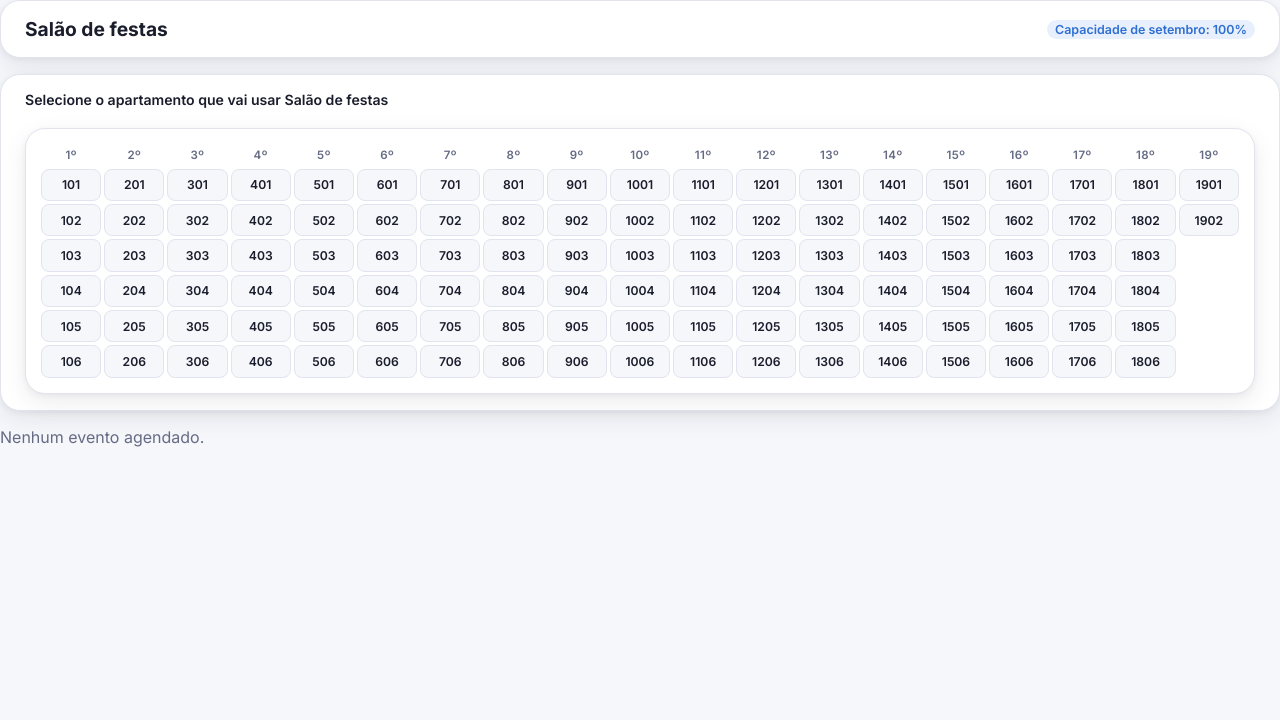
Scenario: SchedulingRoomPanel › shows an error toast when scheduling fails
Step 1. Click the button "101" → coordinates (71, 185), box left=41, top=169, right=101, bottom=201
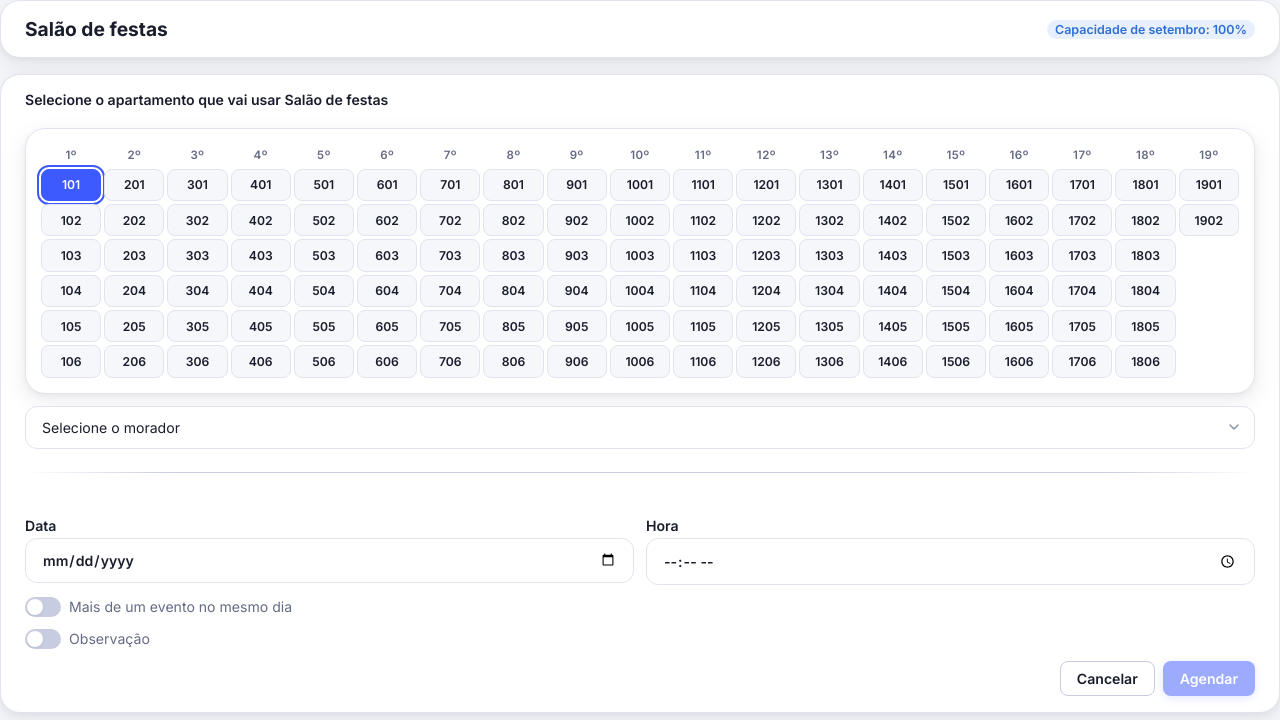
Step 2. Select "Resident Person" in the dropdown named "Morador" → coordinates (640, 427), box left=25, top=406, right=1255, bottom=449
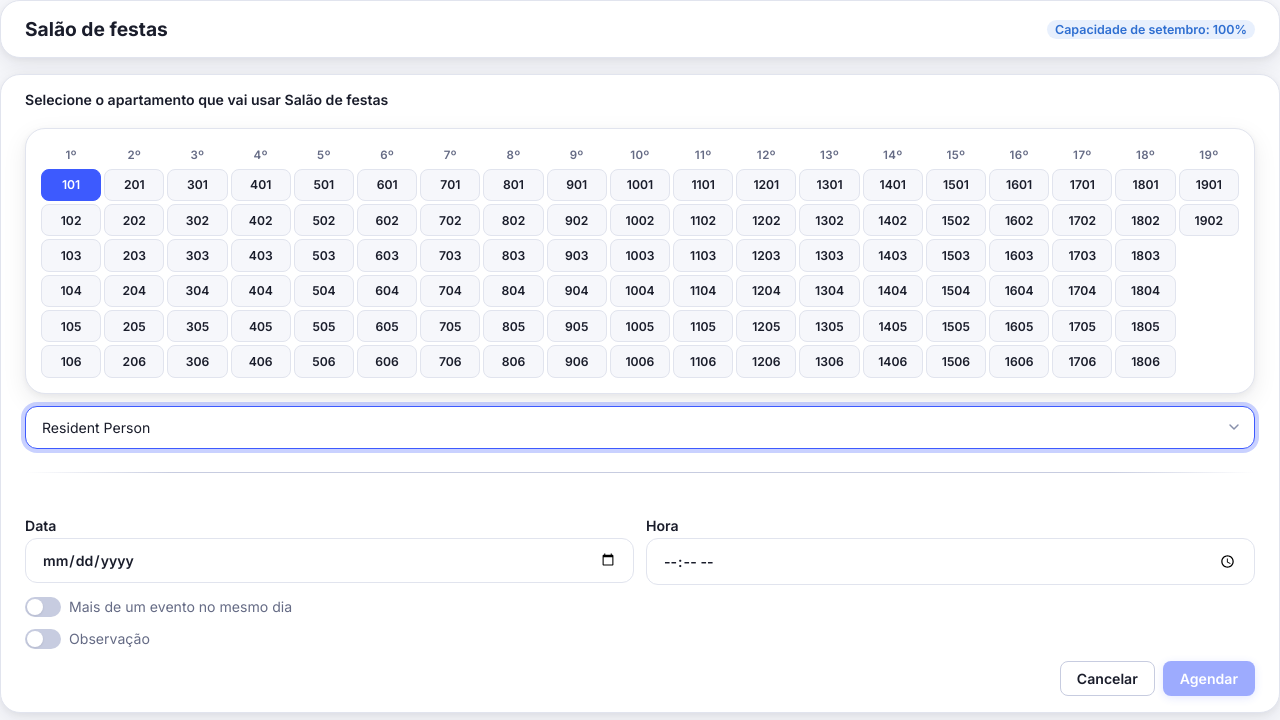
Step 3. Type "2099-06-15" into the date field named "Data do evento" → coordinates (330, 560), box left=25, top=538, right=634, bottom=583
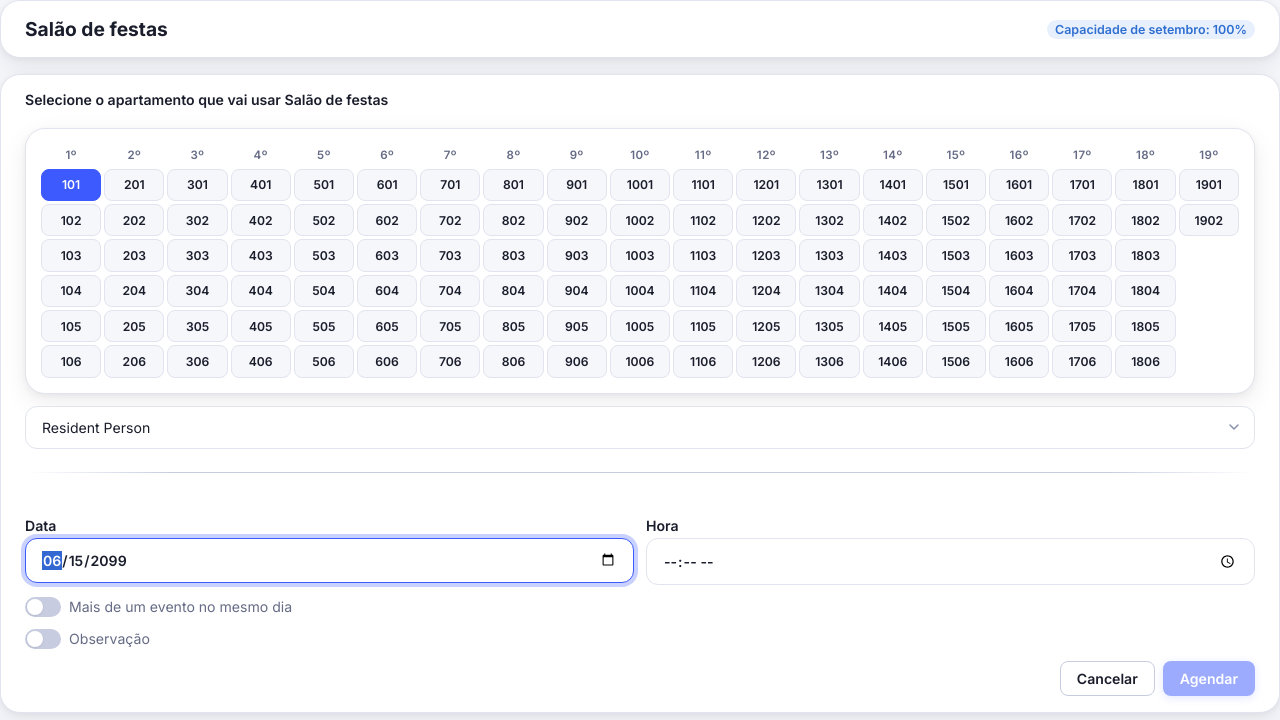
Step 4. Type "20:00" into the time field named "Hora do evento" → coordinates (950, 561), box left=646, top=538, right=1255, bottom=584
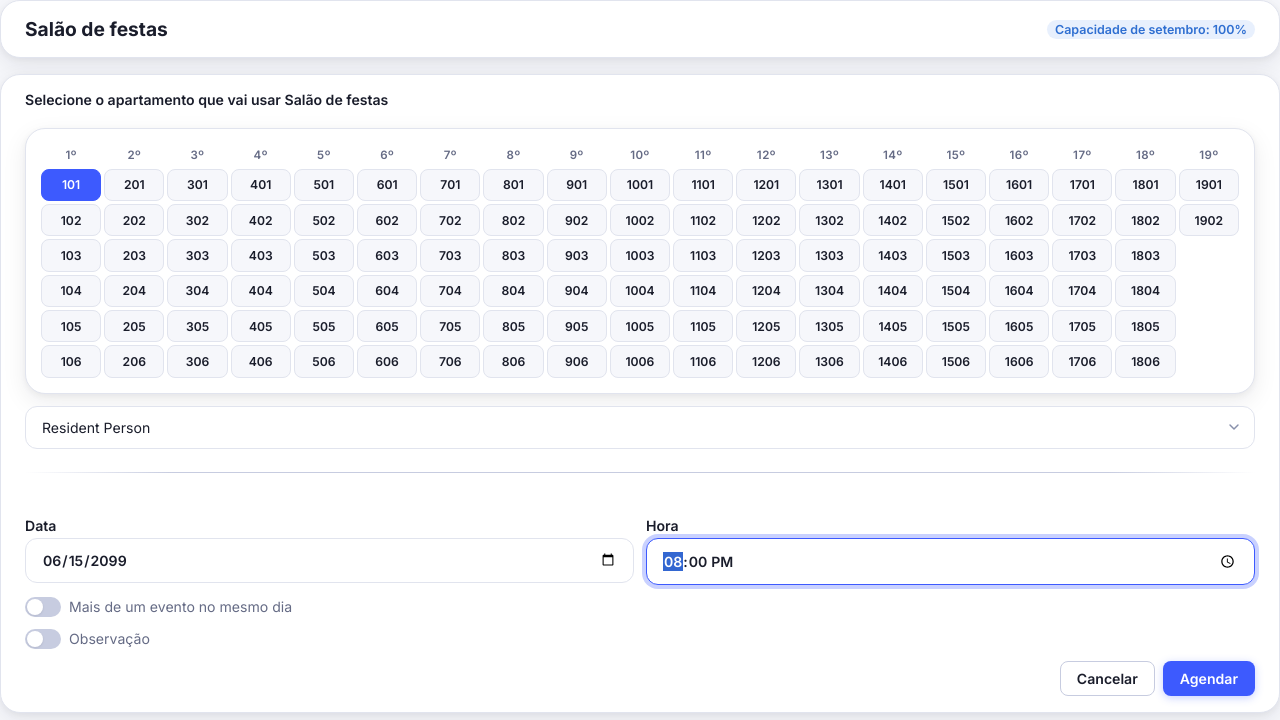
Step 5. Click the button "Agendar" → coordinates (1209, 678), box left=1163, top=660, right=1255, bottom=696
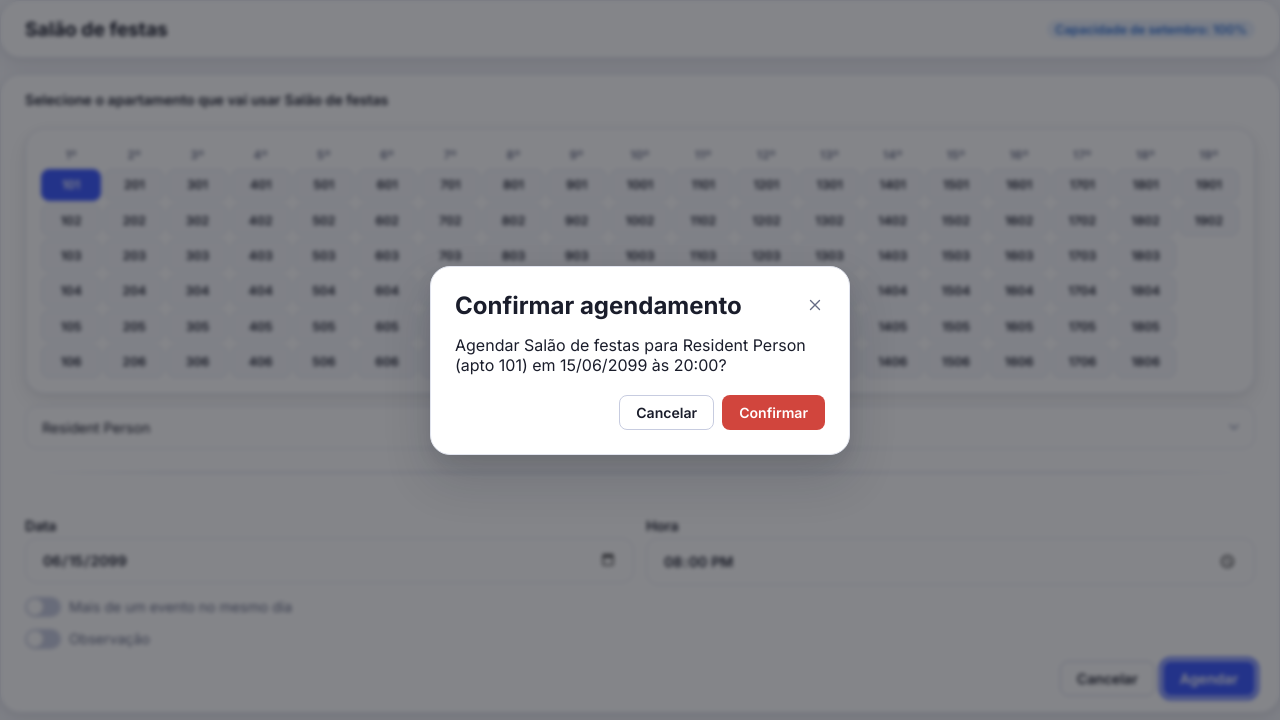
Step 6. Click the button "Confirmar" → coordinates (774, 412), box left=722, top=394, right=825, bottom=430
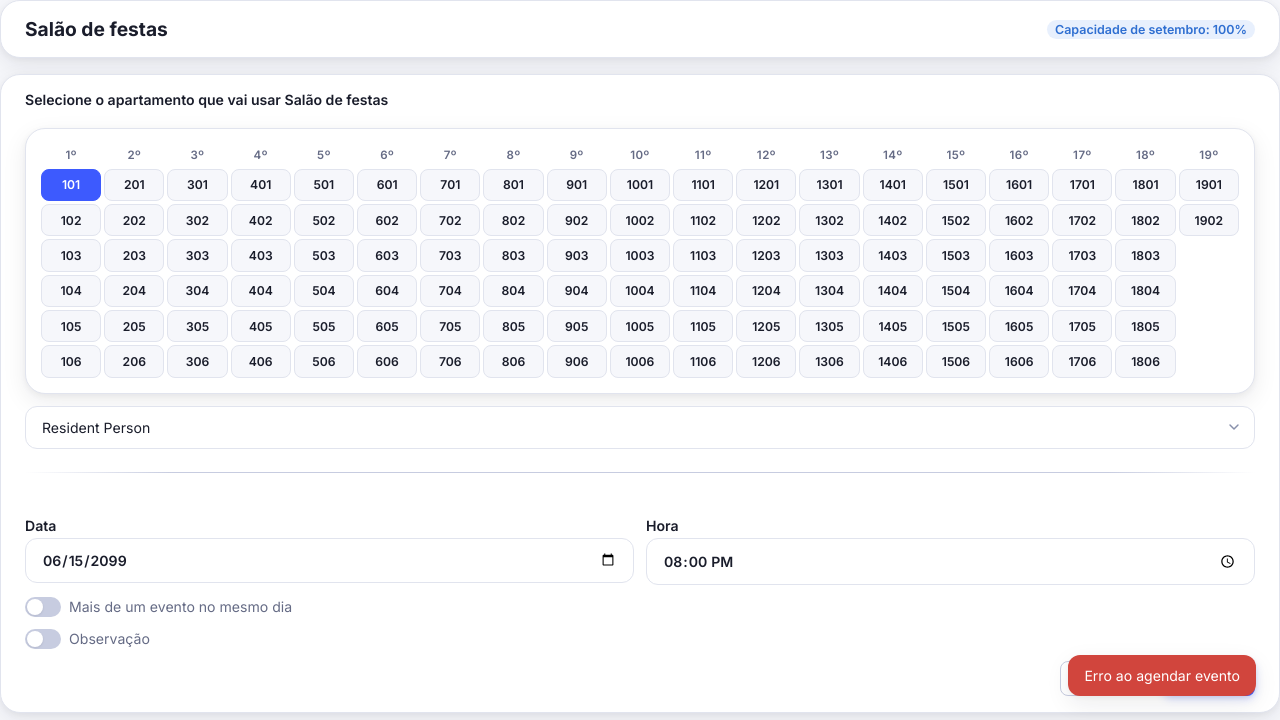
Check: the text "Erro ao agendar evento" is shown, box left=1068, top=655, right=1256, bottom=696
